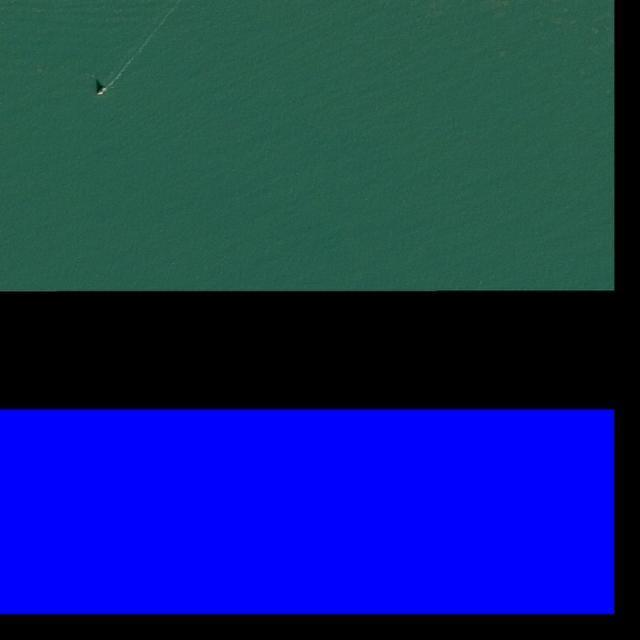ship: (96, 86, 108, 97)
